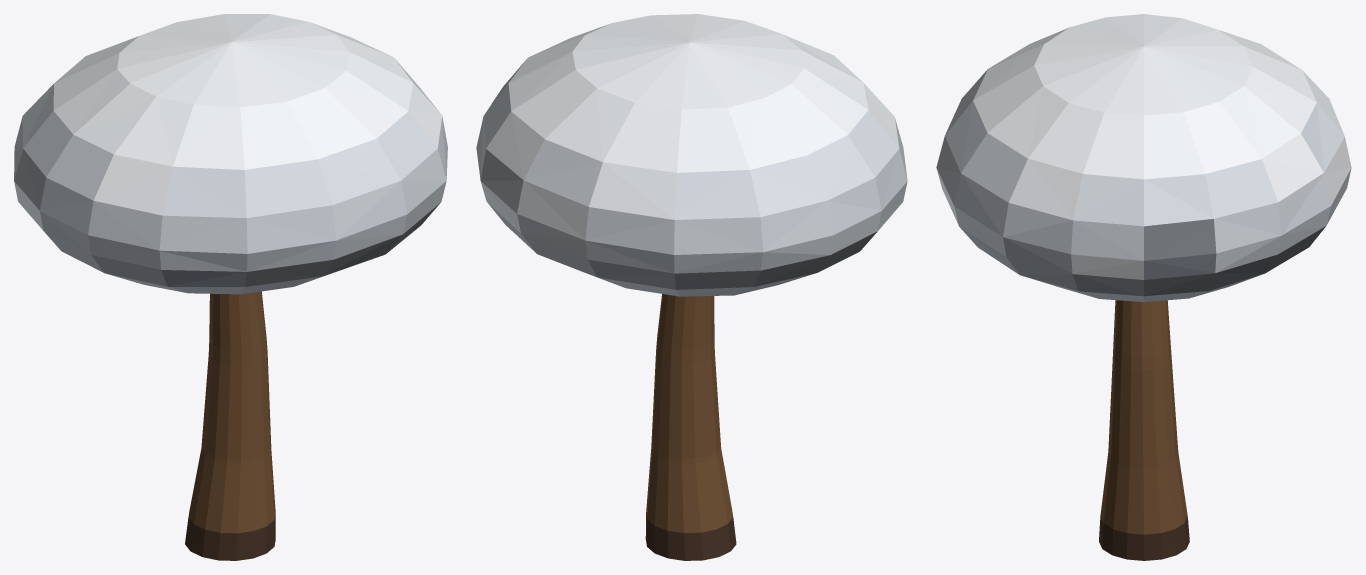
Rendered from MeadowTreeFar.obj.
The picture shows the model from 3 angles, left to right: view 1: azimuth 30°, elevation 25°; view 2: azimuth 150°, elevation 25°; view 3: azimuth 270°, elevation 25°; orthographic projection.
Bounding box in the file's own units: 6.93 × 8.6 × 6.53.
